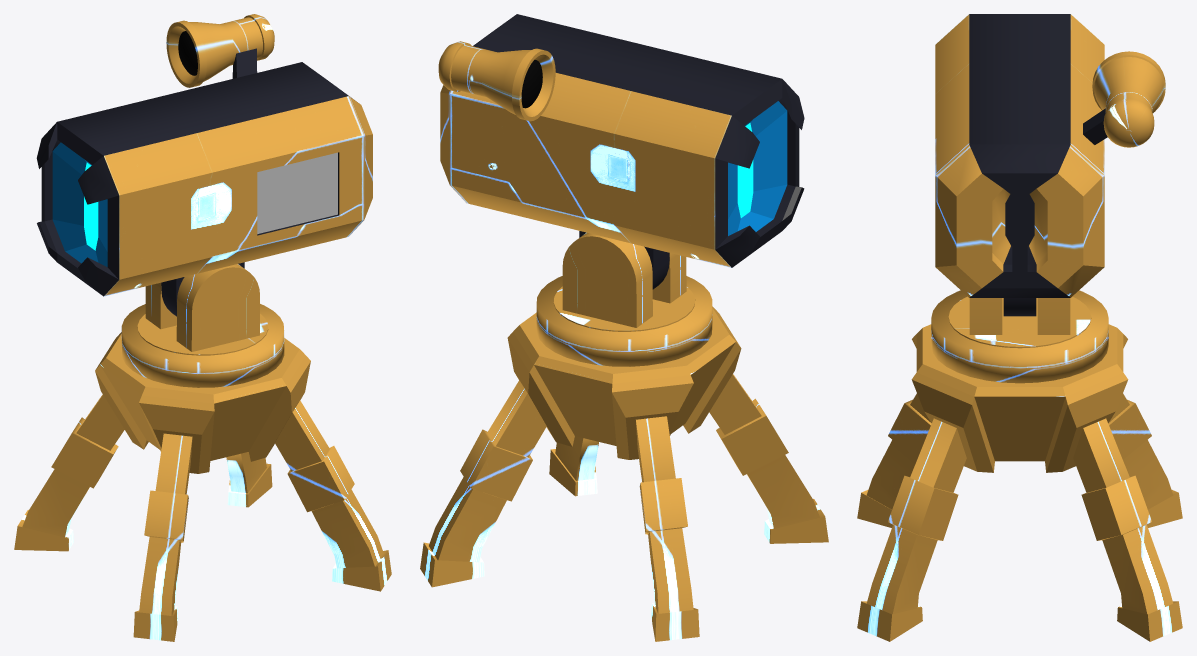
File: LaserTurret.fbx
3 renders of one model, left to right at view 1: azimuth 30°, elevation 25°; view 2: azimuth 150°, elevation 25°; view 3: azimuth 270°, elevation 25°, orthographic. The views are drawn at different scales.
Parts seen in each view (by area): view 1: Cylinder, Cube.003, Cube.001, Cylinder.002, Cylinder.003, Cube.002; view 2: Cylinder, Cube.003, Cube.001, Cylinder.002, Cylinder.003; view 3: Cylinder, Cube.003, Cube.001, Cylinder.003, Cylinder.002.
Boxes of the visible parts, box(x1,y1,x2,y2) form: Cylinder: box(36, 62, 372, 316); Cube.003: box(14, 394, 391, 641); Cube.001: box(95, 304, 310, 473); Cylinder.002: box(137, 264, 268, 355); Cylinder.003: box(166, 14, 274, 87); Cube.002: box(257, 152, 337, 233); Cylinder: box(440, 14, 804, 289); Cube.003: box(420, 374, 828, 641); Cube.001: box(507, 276, 741, 459); Cylinder.002: box(553, 232, 695, 331); Cylinder.003: box(438, 41, 555, 121); Cylinder: box(935, 14, 1104, 316); Cube.003: box(857, 393, 1182, 641); Cube.001: box(911, 290, 1128, 472); Cylinder.003: box(1083, 51, 1165, 147); Cylinder.002: box(948, 296, 1091, 348).
Size of the model in its own units: 417 by 701 by 385.
